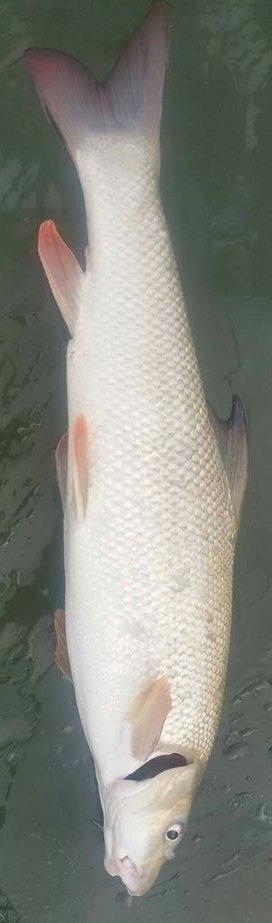Barbus barbus: (20, 1, 252, 903)
